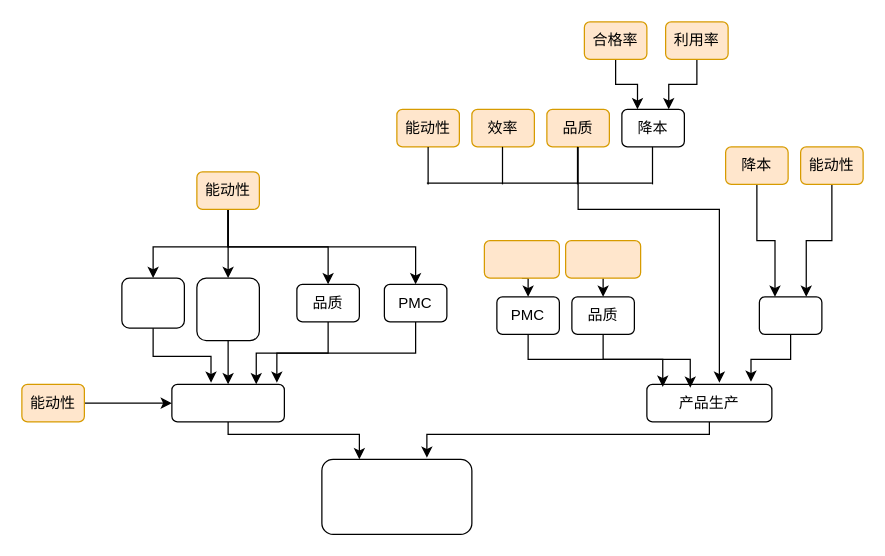
The diagram is 885 pixels wide and 556 high, and some of its shapes have lost their labels. Here are the shapes that lost their labels. From the top down, the box of each, then its label:
(483, 239, 559, 278): 材料成本
(564, 239, 641, 278): 品质保证
(121, 277, 184, 328): 市场 研发
(196, 277, 259, 341): HR 财务 总经办
(758, 296, 822, 334): 技术
(171, 383, 284, 422): 服务销售
(321, 458, 472, 534): 目标
